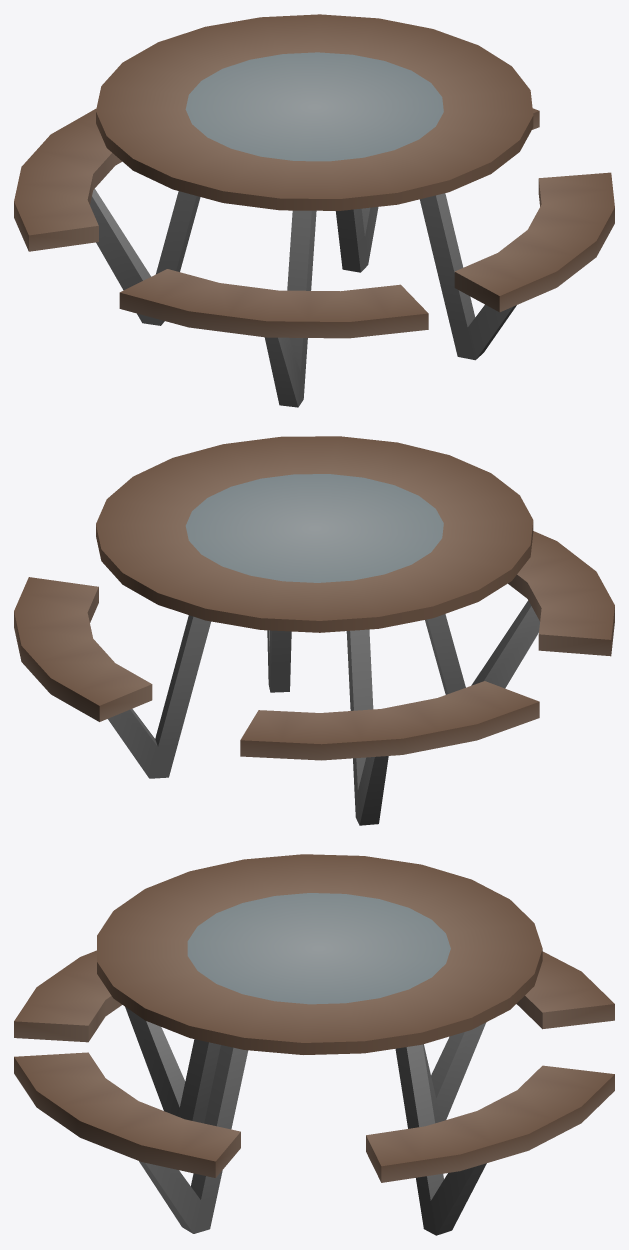
Rendered from Table.fbx.
3 views of the same model, one above another, from view 1: azimuth 30°, elevation 25°; view 2: azimuth 150°, elevation 25°; view 3: azimuth 270°, elevation 25° (orthographic). The views are drawn at different scales.
Parts seen in each view (by area): view 1: Table; view 2: Table; view 3: Table.
Boxes of the visible parts, <box> form: Table: <box>14,14,614,407</box>; Table: <box>14,436,614,825</box>; Table: <box>14,854,614,1235</box>.
Bounding box in the file's own units: 5.13 × 5.12 × 2.18.
